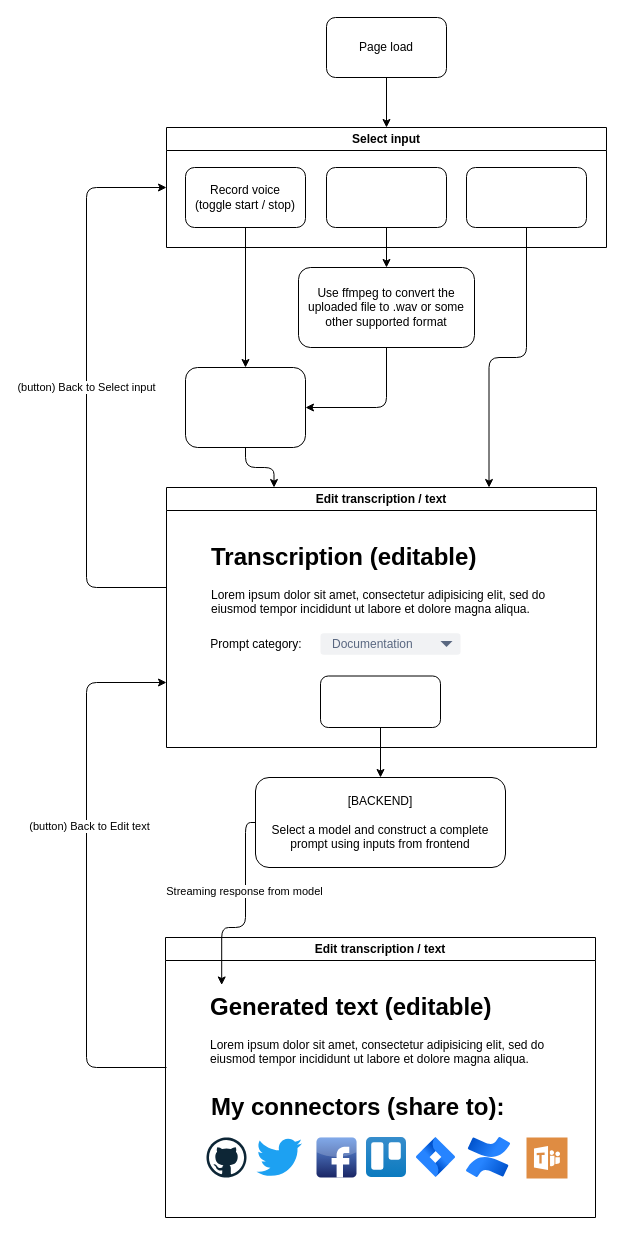
This 624x1235 diagram has some shape labels left out. The centre of each missing label's shape, as x and y in pixels:
[BACKEND] Create transcription using Whisper: pixel 245 407
Enter text: pixel 526 197
Generate: pixel 380 701
Upload file: pixel 386 197
